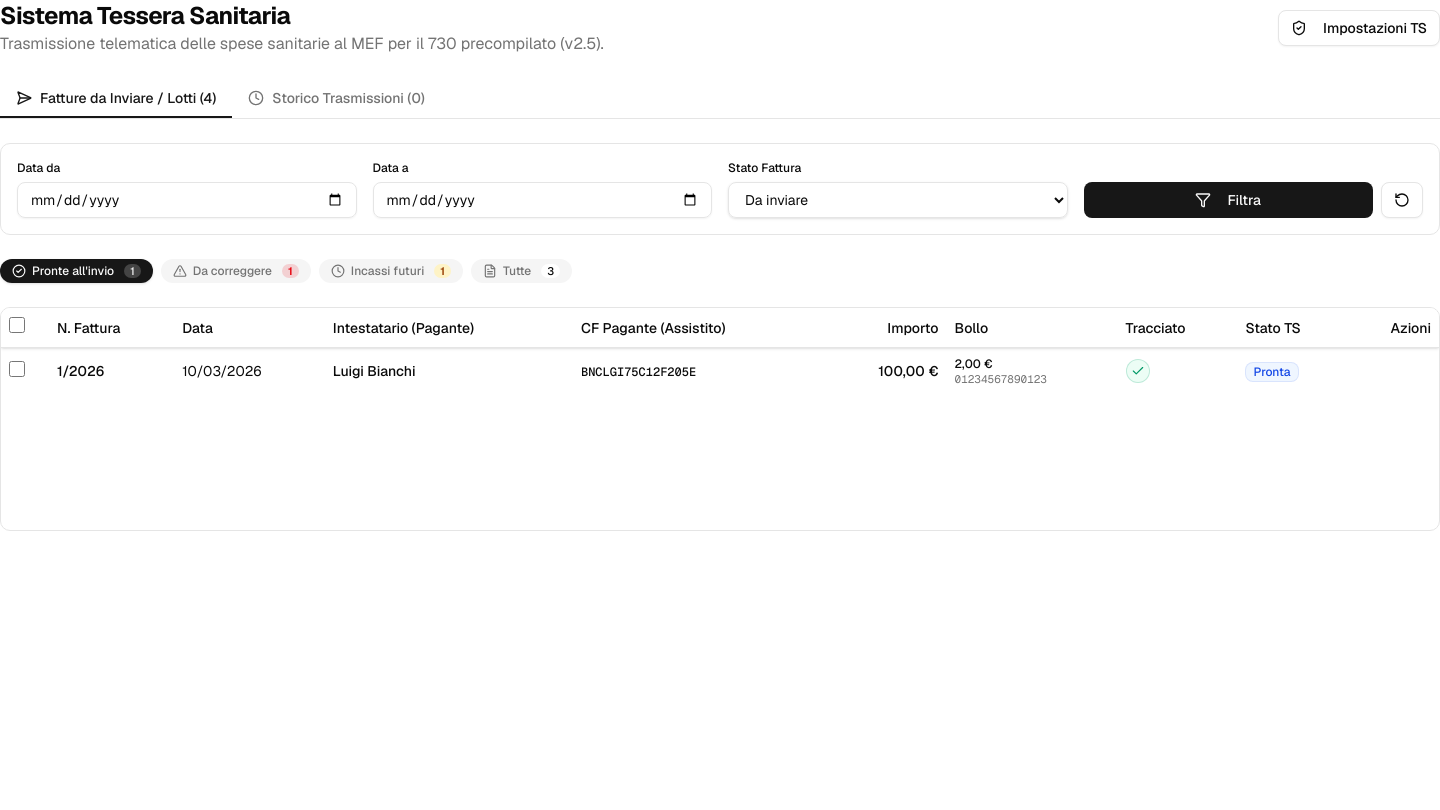
Test: SistemaTsManager › disabilita la checkbox per fatture con anomalie (CF errato) e fornisce azione rapida Correggi
This screenshot has width=1440, height=810.
Note: Passa alla pillola "Da correggere"
Click the button "Da correggere 1".
click(236, 271)  # box [161,259,311,283]
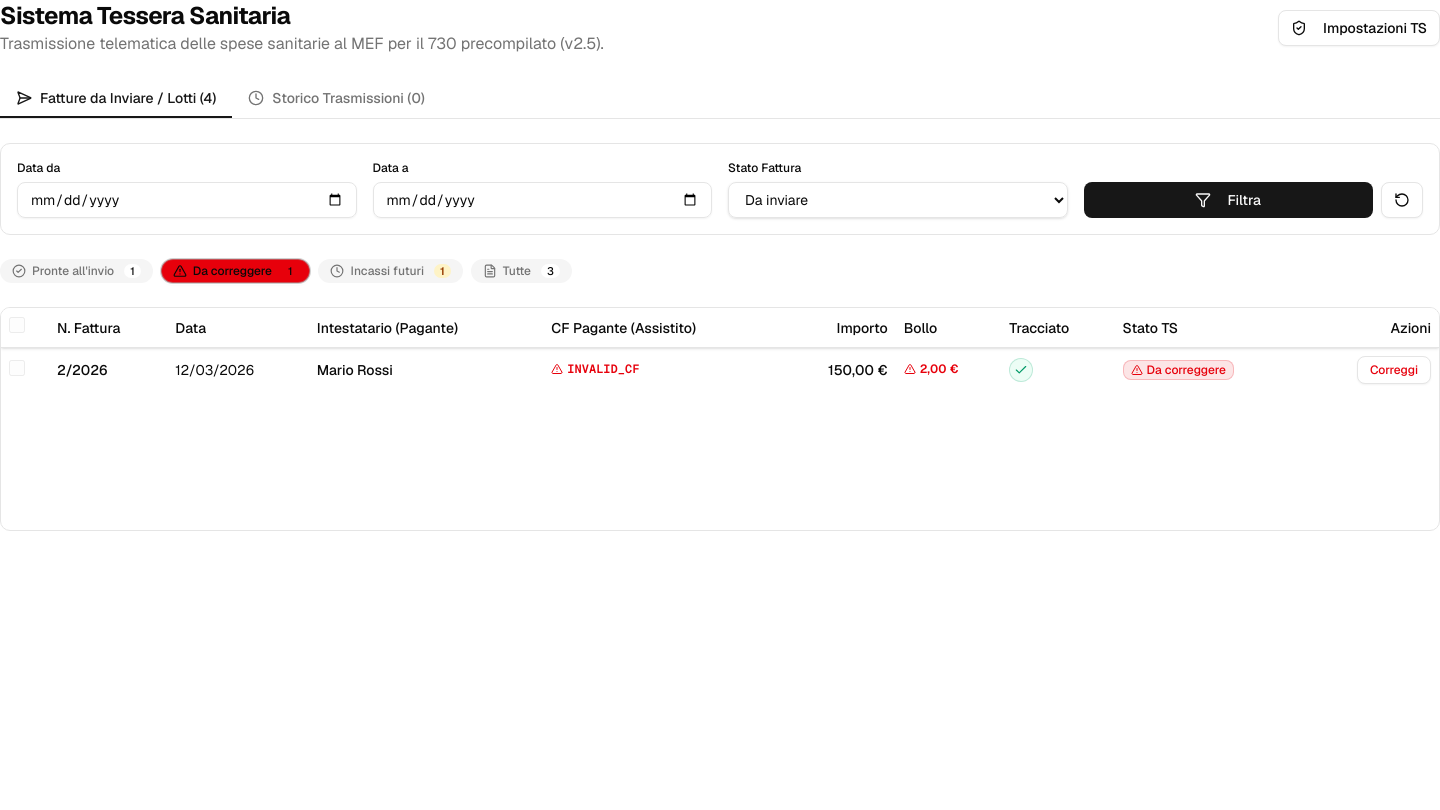
expect the text "Mario Rossi" is shown: met, box [317,361,393,379]
expect the button "Correggi" is shown: met
Note: Cliccando sul pulsante Correggi, si apre la modale di correzione in-place
Click the button "Correggi".
click(1394, 370)  # box [1357,356,1431,384]
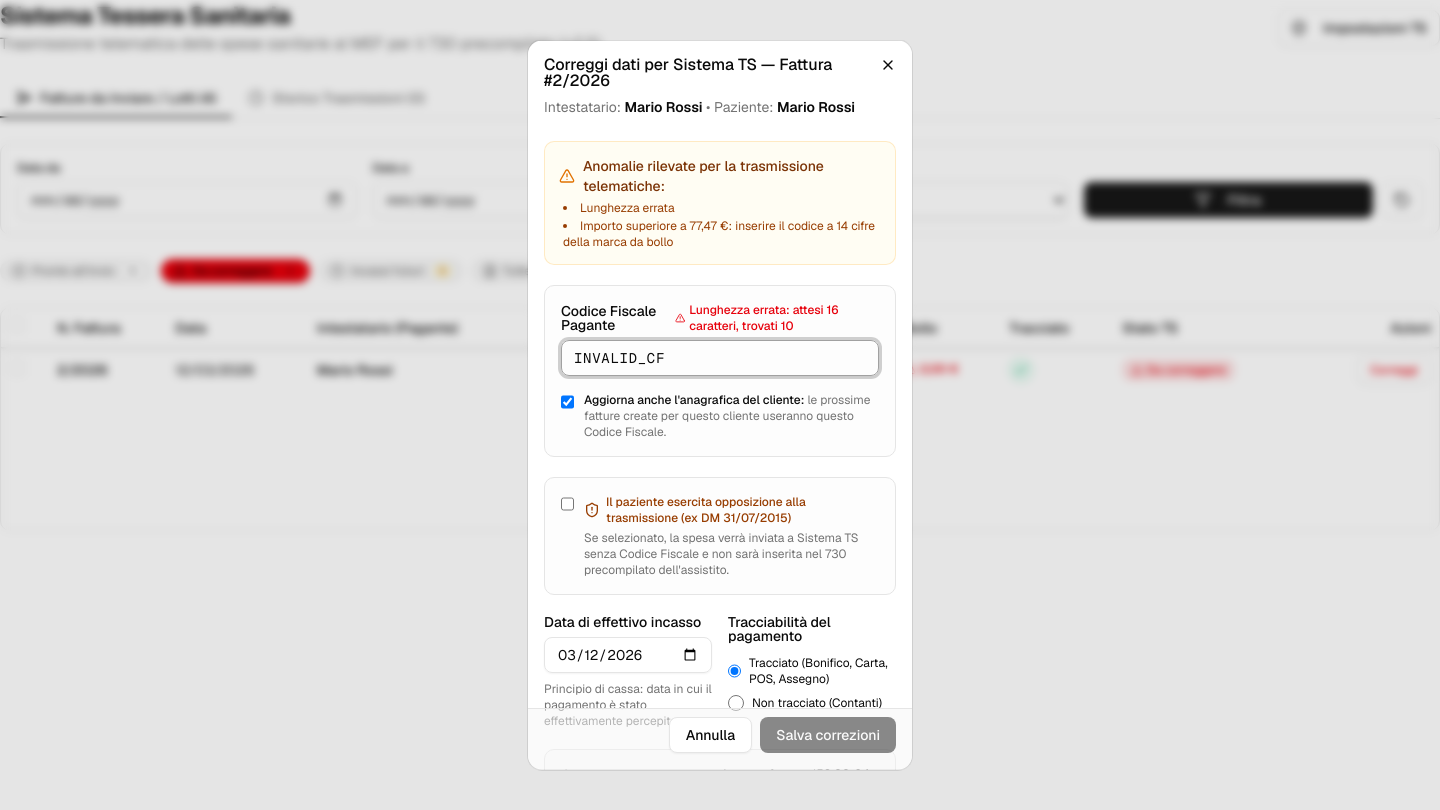
expect the heading "Correggi dati per Sistema TS — Fattura #2/2026" is shown: met, box [544,54,832,90]
